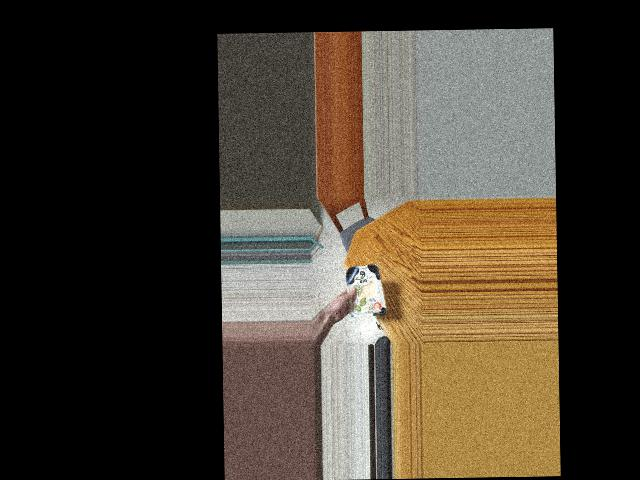cheese: (345, 266, 383, 313)
